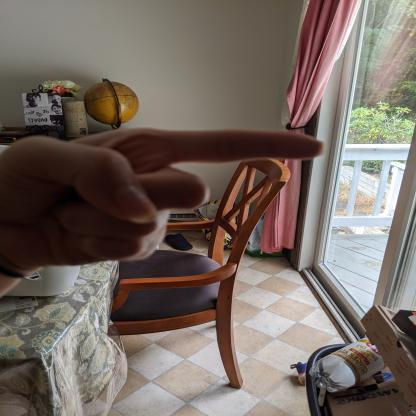G: (0, 124, 337, 274)
